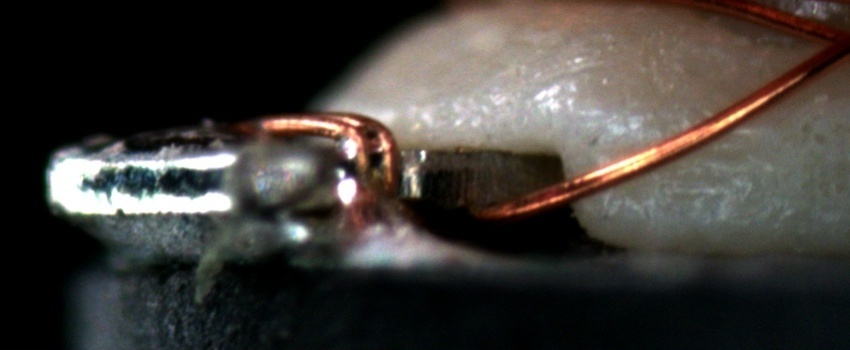CL: (800, 14, 849, 72)
DL: (597, 121, 761, 181)
TE: (251, 105, 404, 212)
